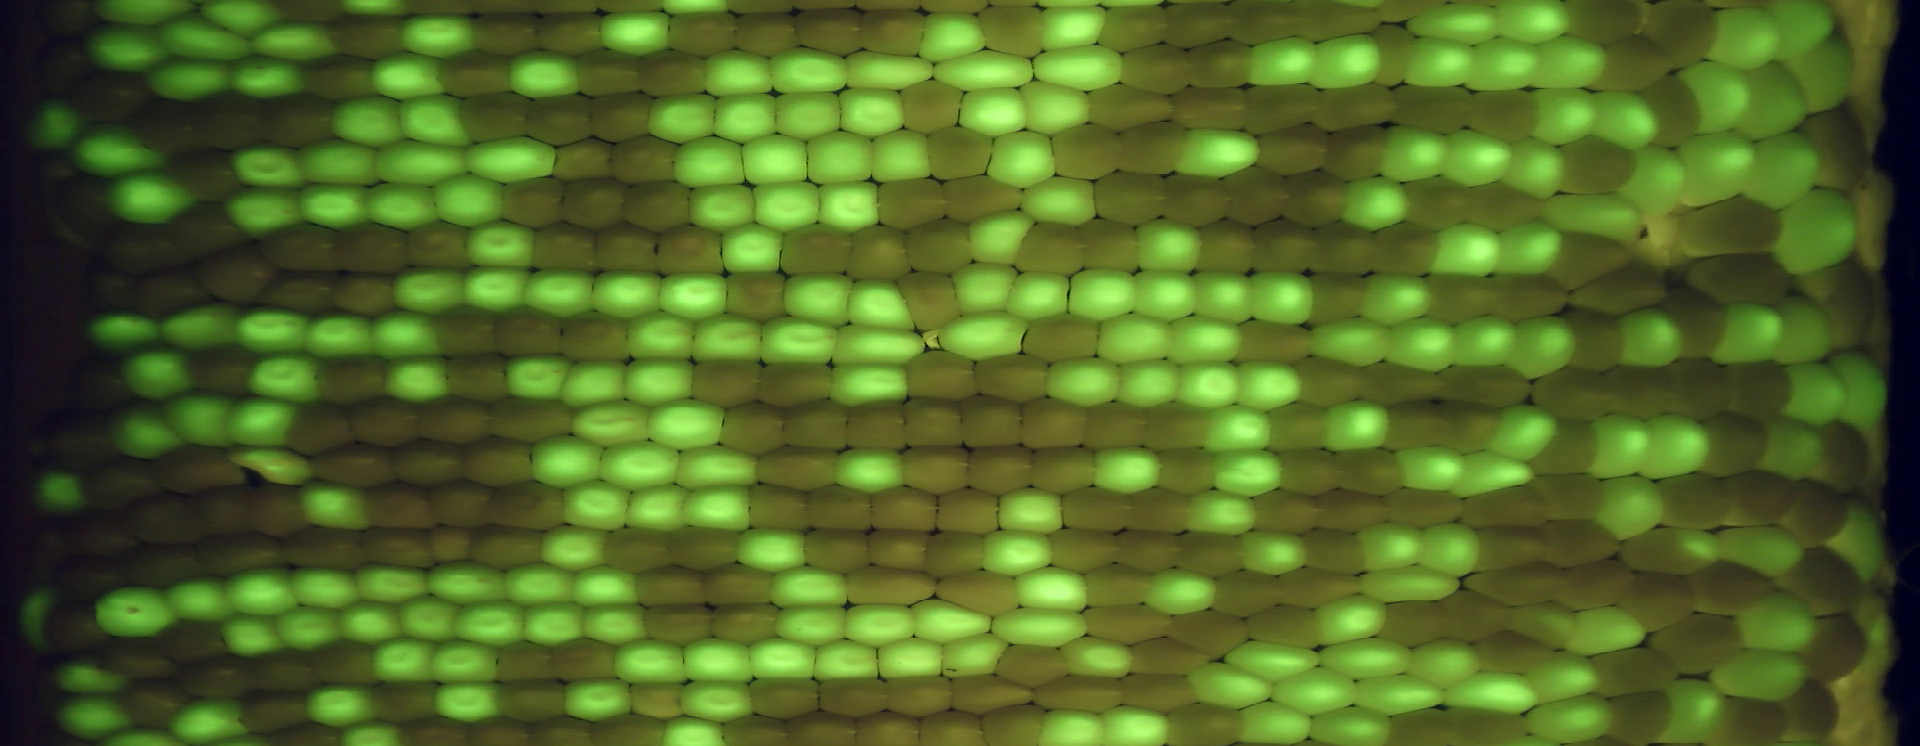fluorescent: (1778, 191, 1861, 279), (65, 119, 178, 183), (107, 341, 203, 408), (97, 168, 201, 229), (86, 582, 184, 646), (149, 10, 255, 67), (369, 135, 475, 190), (104, 399, 193, 463), (1678, 130, 1752, 205), (1747, 135, 1821, 211), (1027, 42, 1130, 96), (216, 185, 311, 243), (1675, 59, 1749, 134), (76, 20, 173, 76), (520, 431, 611, 491), (825, 321, 931, 372), (982, 129, 1065, 194), (464, 131, 562, 186), (669, 439, 767, 494), (644, 393, 730, 456), (287, 136, 387, 189), (753, 312, 845, 370), (1740, 62, 1807, 141), (391, 89, 474, 152), (564, 397, 659, 452), (820, 359, 915, 413), (1015, 171, 1103, 229), (929, 47, 1038, 93), (154, 300, 244, 356), (216, 393, 305, 450), (987, 603, 1095, 649), (975, 523, 1062, 581), (780, 269, 860, 332), (686, 307, 770, 366), (1010, 560, 1095, 619), (965, 205, 1041, 269), (839, 47, 939, 96), (160, 695, 256, 746), (1042, 355, 1135, 408), (160, 387, 239, 450), (48, 688, 138, 742), (17, 91, 88, 159), (421, 557, 516, 609), (1544, 189, 1636, 241), (1093, 309, 1179, 365), (295, 478, 377, 537), (595, 439, 684, 492), (676, 636, 765, 690), (1018, 77, 1096, 138), (671, 134, 754, 191), (241, 350, 324, 408), (518, 265, 602, 321), (673, 673, 762, 726), (291, 179, 377, 234), (218, 563, 304, 619), (587, 266, 669, 323), (845, 274, 923, 334), (361, 179, 444, 235), (388, 262, 471, 318), (233, 303, 316, 359), (1065, 265, 1145, 323), (222, 441, 315, 491), (640, 89, 725, 145), (732, 521, 813, 578), (538, 522, 620, 578), (238, 20, 345, 62), (616, 355, 702, 409), (1505, 315, 1577, 379), (1711, 303, 1783, 366), (222, 141, 311, 192), (142, 58, 240, 104), (751, 176, 827, 236), (560, 477, 636, 537), (989, 484, 1074, 538), (801, 127, 878, 186), (1711, 5, 1784, 66), (953, 85, 1036, 138), (157, 573, 240, 627), (425, 635, 508, 688), (369, 48, 448, 104), (1430, 220, 1505, 281), (364, 307, 444, 363), (1644, 416, 1713, 481), (1717, 649, 1810, 697), (829, 85, 906, 142), (705, 89, 782, 147), (436, 170, 507, 233), (77, 309, 165, 359), (422, 675, 511, 725), (1709, 523, 1798, 573), (377, 353, 456, 409), (677, 479, 756, 535), (767, 43, 852, 94), (906, 594, 992, 646), (607, 635, 693, 686), (1131, 217, 1206, 276), (44, 652, 138, 698), (300, 679, 383, 731), (767, 599, 856, 648), (351, 560, 436, 611), (460, 218, 542, 271), (298, 309, 380, 361), (557, 674, 639, 726), (327, 94, 405, 149), (951, 258, 1025, 317), (1000, 267, 1075, 325), (1337, 176, 1412, 234), (651, 269, 731, 323), (623, 309, 703, 363), (737, 130, 813, 186), (553, 355, 629, 412), (1471, 36, 1542, 96), (1378, 124, 1449, 184), (227, 51, 313, 100), (451, 597, 531, 649), (1838, 352, 1891, 432), (1133, 263, 1205, 322), (715, 219, 789, 277), (700, 47, 779, 100), (1735, 590, 1813, 644), (1622, 304, 1687, 369), (1385, 316, 1460, 372), (936, 630, 1015, 682), (770, 89, 846, 145), (809, 179, 885, 234), (1091, 443, 1167, 499), (864, 127, 936, 186), (1445, 130, 1516, 189), (1311, 32, 1384, 89), (1311, 590, 1389, 644), (767, 561, 853, 609), (1108, 356, 1187, 409), (396, 12, 478, 62), (915, 9, 989, 64), (1406, 34, 1476, 93), (504, 49, 584, 100), (1188, 661, 1273, 709), (282, 563, 365, 612), (841, 599, 922, 649), (746, 635, 827, 685), (1780, 363, 1847, 424), (459, 262, 538, 314), (1777, 296, 1836, 365), (1487, 404, 1558, 461), (567, 560, 647, 610), (620, 481, 692, 537), (1300, 704, 1396, 746), (830, 443, 907, 495), (500, 352, 580, 401), (1449, 673, 1540, 715), (500, 559, 579, 608), (1594, 88, 1658, 149), (1357, 521, 1429, 575), (17, 579, 62, 665), (1527, 696, 1618, 739), (1495, 220, 1562, 278), (1035, 4, 1112, 54), (516, 597, 589, 649), (1191, 268, 1260, 325), (1447, 316, 1516, 372), (217, 609, 291, 660), (1310, 317, 1389, 366), (336, 595, 407, 649), (1534, 36, 1605, 89), (1798, 40, 1851, 111), (1777, 1, 1839, 62), (1598, 473, 1657, 538), (1403, 1, 1500, 40), (1224, 638, 1321, 677), (276, 601, 345, 655), (1456, 454, 1534, 502), (1667, 677, 1725, 741), (393, 593, 464, 646), (595, 9, 675, 55), (684, 183, 758, 233), (876, 635, 950, 684), (1187, 126, 1261, 175), (195, 1, 288, 40), (1096, 701, 1176, 746), (1762, 420, 1826, 477), (582, 600, 653, 650), (365, 635, 436, 685), (1172, 315, 1243, 365), (1269, 668, 1357, 708), (27, 467, 94, 519), (1569, 604, 1644, 650), (1526, 654, 1605, 698), (1063, 633, 1138, 680), (1237, 699, 1311, 746), (1367, 567, 1461, 604), (1494, 1, 1571, 45), (1251, 269, 1313, 325), (1592, 412, 1643, 477), (1187, 488, 1256, 535), (1250, 37, 1316, 87), (1636, 149, 1686, 216), (808, 639, 885, 682), (1363, 273, 1430, 322), (1326, 399, 1389, 452), (88, 1, 204, 29), (1358, 673, 1444, 710), (1536, 88, 1593, 145), (1837, 511, 1892, 570), (1146, 570, 1217, 615), (1233, 364, 1300, 412), (1213, 450, 1282, 496), (1409, 639, 1480, 684), (1031, 707, 1108, 746), (1320, 639, 1408, 674), (1207, 405, 1272, 452), (1512, 138, 1562, 198), (1393, 446, 1463, 489), (1237, 530, 1307, 571), (1419, 526, 1477, 575), (1179, 363, 1240, 408), (660, 712, 731, 746), (1663, 528, 1722, 568), (331, 718, 408, 746)
nonfluorescent: (1795, 258, 1883, 353), (1771, 543, 1871, 621), (1642, 609, 1750, 680), (1795, 100, 1873, 195), (1675, 195, 1788, 258), (1680, 250, 1795, 309), (1559, 258, 1668, 317), (1630, 71, 1704, 154), (1540, 227, 1633, 293), (1682, 557, 1782, 619), (1789, 612, 1871, 686), (193, 241, 280, 310), (157, 141, 249, 206), (51, 169, 126, 247), (1463, 559, 1580, 609), (1555, 134, 1644, 198), (1613, 567, 1698, 635), (1584, 34, 1678, 96), (37, 410, 133, 469), (148, 439, 253, 492), (1656, 285, 1731, 360), (1774, 477, 1853, 549), (91, 219, 185, 279), (1309, 78, 1403, 138), (67, 67, 164, 125), (1693, 409, 1772, 480), (187, 88, 269, 156), (125, 262, 214, 323), (1048, 115, 1128, 184), (1586, 646, 1682, 702), (75, 452, 165, 512), (252, 222, 347, 279), (1385, 78, 1479, 136), (1395, 170, 1477, 236), (1642, 1, 1722, 69), (938, 170, 1029, 229), (1802, 416, 1875, 490), (1430, 361, 1536, 412), (1716, 358, 1795, 424), (1431, 587, 1521, 646), (258, 89, 339, 154), (1419, 269, 1506, 330), (899, 214, 982, 277), (1018, 309, 1106, 367), (872, 174, 951, 239), (1455, 481, 1558, 532), (1082, 78, 1178, 132), (1714, 469, 1804, 527), (1090, 169, 1176, 229), (1237, 80, 1324, 138), (922, 118, 999, 184), (775, 390, 853, 454), (115, 490, 203, 548), (1008, 218, 1092, 278), (164, 198, 249, 258), (1656, 472, 1736, 534), (1600, 360, 1681, 423), (1313, 122, 1393, 185), (1536, 516, 1625, 572), (891, 266, 966, 333), (1660, 354, 1736, 420), (1527, 465, 1610, 526), (1251, 119, 1335, 179), (1527, 364, 1618, 419), (178, 339, 262, 398), (1777, 676, 1848, 746), (456, 88, 536, 149), (969, 349, 1054, 407), (773, 219, 855, 279), (1205, 563, 1287, 624), (255, 266, 342, 322), (347, 391, 430, 450), (1292, 350, 1375, 409), (1467, 622, 1555, 677), (899, 345, 980, 405), (305, 439, 399, 490), (1524, 415, 1599, 480), (842, 563, 947, 610), (429, 47, 518, 100), (1550, 559, 1640, 612), (282, 399, 360, 461), (193, 530, 291, 579), (1478, 276, 1573, 326), (1464, 87, 1548, 145), (487, 393, 580, 445), (495, 169, 567, 235), (895, 72, 969, 137), (1114, 40, 1195, 99), (1248, 217, 1324, 279), (1464, 521, 1559, 571), (588, 218, 665, 279), (556, 307, 638, 365), (1167, 81, 1256, 134), (651, 220, 730, 281), (1364, 219, 1442, 279), (491, 303, 571, 361), (1354, 358, 1452, 405), (1075, 599, 1178, 644), (1164, 608, 1255, 659), (296, 51, 384, 104), (279, 524, 373, 573), (1460, 179, 1545, 233), (931, 568, 1022, 619), (1558, 307, 1629, 372), (1221, 162, 1292, 227), (1269, 567, 1370, 612), (1112, 115, 1185, 178), (955, 391, 1029, 453), (1187, 218, 1266, 276), (632, 44, 713, 100), (313, 352, 396, 407), (1030, 674, 1135, 717), (484, 479, 569, 532), (1702, 693, 1788, 746), (715, 398, 787, 461), (601, 131, 680, 189), (527, 220, 605, 278), (947, 670, 1038, 719), (1304, 219, 1378, 281), (425, 304, 504, 360), (129, 94, 204, 153), (1013, 392, 1089, 451), (754, 356, 835, 412), (31, 32, 96, 100), (328, 220, 413, 273), (1287, 1, 1382, 48), (1600, 688, 1678, 746), (1433, 397, 1504, 459), (862, 483, 944, 537), (662, 6, 741, 62), (458, 432, 536, 489), (973, 2, 1047, 62), (618, 176, 693, 235), (415, 393, 495, 448), (1117, 670, 1206, 719), (1227, 317, 1316, 366), (842, 219, 910, 284), (1078, 397, 1153, 454), (853, 5, 934, 59), (896, 445, 977, 499), (186, 483, 263, 539), (159, 615, 236, 671), (1244, 600, 1329, 652), (1370, 597, 1455, 648), (523, 89, 595, 149), (751, 446, 844, 492), (324, 12, 407, 65), (1025, 440, 1098, 499), (56, 510, 144, 559), (306, 632, 380, 691), (245, 646, 324, 699), (1278, 167, 1346, 230), (467, 9, 550, 60), (402, 218, 478, 274), (1160, 699, 1251, 746), (122, 541, 209, 590), (465, 519, 546, 572), (1271, 443, 1348, 499), (962, 440, 1035, 499), (1058, 483, 1136, 537), (37, 600, 115, 654), (1247, 484, 1325, 538), (1560, 1, 1653, 47), (1075, 213, 1144, 274), (97, 632, 176, 685), (555, 175, 626, 234), (1141, 397, 1213, 454), (1095, 1, 1172, 55), (358, 478, 435, 532), (687, 359, 765, 412), (235, 688, 317, 739), (580, 91, 655, 146), (118, 676, 192, 731), (1075, 559, 1155, 610), (629, 562, 715, 610), (600, 522, 676, 576), (442, 350, 513, 408), (1182, 37, 1255, 92), (1311, 488, 1396, 535), (1160, 176, 1238, 228), (387, 439, 469, 488), (724, 269, 793, 327), (665, 523, 741, 576), (356, 522, 436, 572), (1127, 633, 1215, 679), (699, 561, 782, 609), (1303, 268, 1368, 330), (814, 673, 891, 724), (1119, 483, 1193, 537), (1296, 526, 1369, 579), (1382, 484, 1469, 529), (882, 673, 960, 723), (245, 481, 315, 538), (790, 4, 866, 55), (994, 639, 1074, 688), (545, 635, 624, 684), (841, 399, 913, 453), (803, 483, 876, 537), (932, 485, 1004, 539), (170, 650, 253, 697), (1044, 526, 1122, 576), (1109, 527, 1187, 577), (801, 526, 874, 578), (1333, 443, 1407, 496), (732, 6, 801, 62), (746, 674, 827, 722), (369, 677, 449, 725), (898, 398, 967, 453), (73, 359, 143, 414), (545, 131, 616, 185), (707, 600, 784, 649), (55, 552, 132, 601), (1158, 1, 1236, 50), (1223, 1, 1307, 47), (530, 7, 605, 58), (1376, 401, 1455, 448), (572, 44, 640, 98), (1171, 528, 1244, 578), (638, 601, 715, 649), (1262, 401, 1332, 453), (864, 526, 936, 577), (1153, 443, 1220, 499), (328, 269, 400, 320), (493, 676, 569, 724), (1445, 706, 1534, 746), (426, 477, 495, 529), (1367, 16, 1416, 89), (26, 138, 83, 200), (77, 262, 141, 317), (1381, 702, 1461, 746), (921, 528, 987, 581), (742, 484, 813, 533), (36, 1, 108, 47), (976, 701, 1048, 746), (24, 516, 71, 586), (782, 707, 862, 746), (396, 710, 480, 746), (715, 710, 798, 746), (587, 713, 676, 746), (851, 710, 933, 746), (493, 638, 557, 684), (912, 709, 989, 746), (627, 679, 691, 722), (458, 712, 538, 746), (422, 521, 479, 567), (525, 713, 598, 746)
